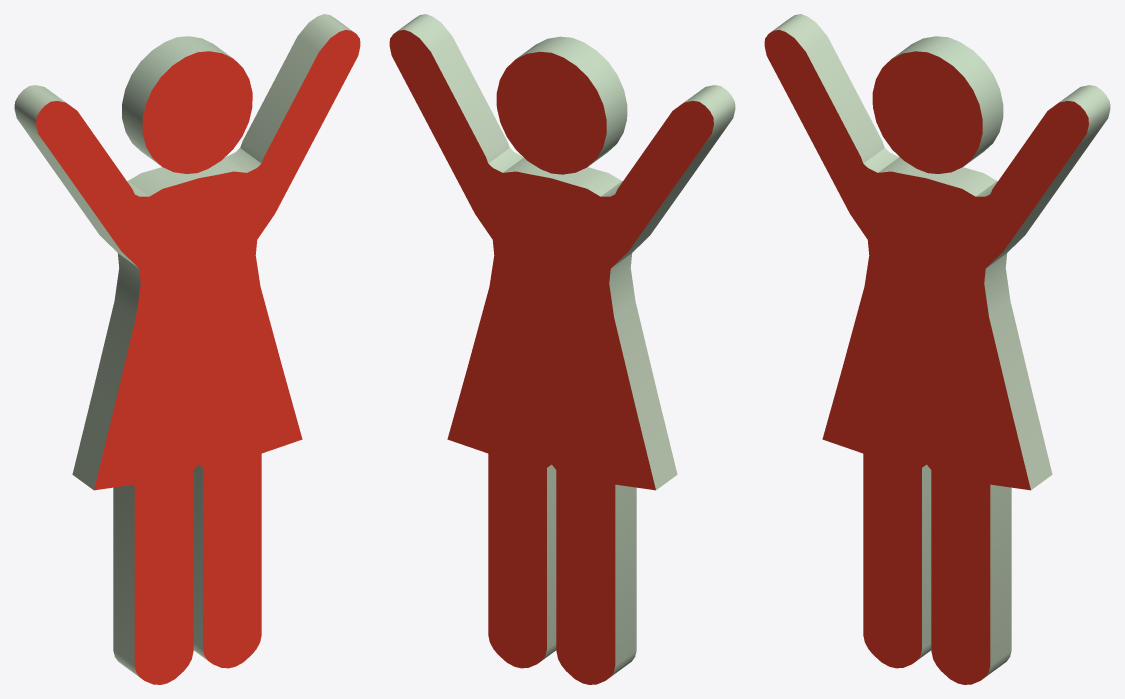
The model's file is Female Dummy Up B.fbx.
The picture shows the model from 3 angles, left to right: view 1: azimuth 30°, elevation 25°; view 2: azimuth 150°, elevation 25°; view 3: azimuth 330°, elevation 25°; orthographic projection.
Visible parts, largest first — view 1: Female Dummy Up B; view 2: Female Dummy Up B; view 3: Female Dummy Up B.
Boxes of the visible parts, <box> form: Female Dummy Up B: <box>14,14,360,684</box>; Female Dummy Up B: <box>389,14,735,684</box>; Female Dummy Up B: <box>764,14,1110,684</box>.
Bounding box in the file's own units: 108 × 199 × 12.44.
